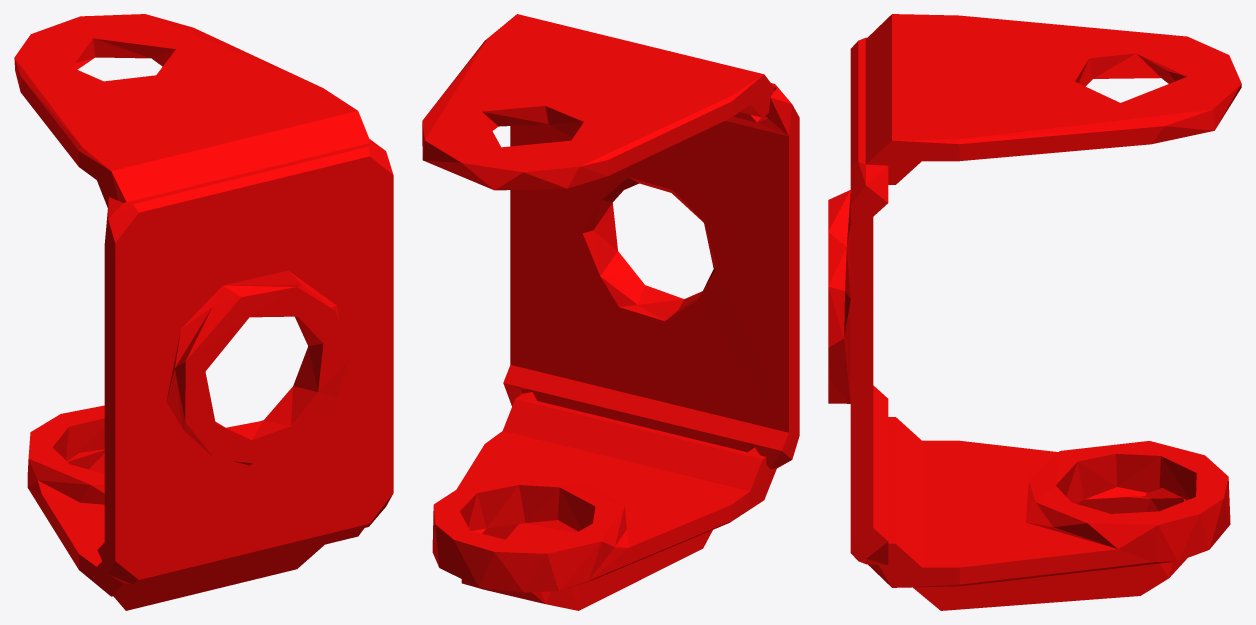
Rendered from warec-FL_ANKLE_Y-visual-0.dae.
3 views of the same model, side by side, from view 1: azimuth 30°, elevation 25°; view 2: azimuth 150°, elevation 25°; view 3: azimuth 270°, elevation 25° (orthographic). The views are drawn at different scales.
Visible parts, largest first — view 1: root; view 2: root; view 3: root.
Boxes of the visible parts, left/top/right/bottom form: root: left=14, top=14, right=393, bottom=610; root: left=422, top=14, right=799, bottom=610; root: left=828, top=14, right=1241, bottom=610.
Bounding box in the file's own units: 0.09 × 0.144 × 0.1102.
